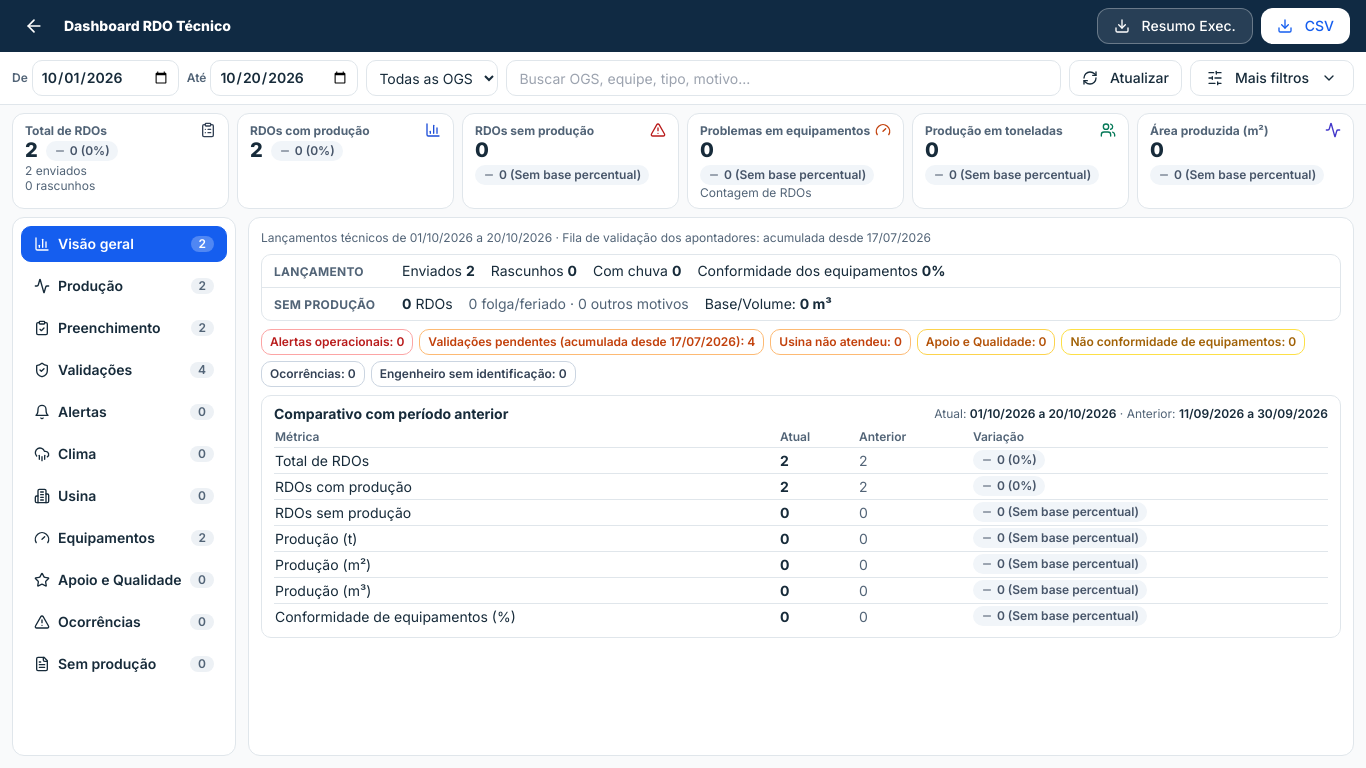
Dashboard Técnico — CSV geral e busca por INFRA › busca infra_descricao nos períodos atual e anterior, sem acoplar à validação
The width and height of the screenshot is (1366, 768).
Type "bueiro" into the field named "Busca rápida". click: point(784, 78)
box: x1=506 y1=60 x2=1061 y2=96
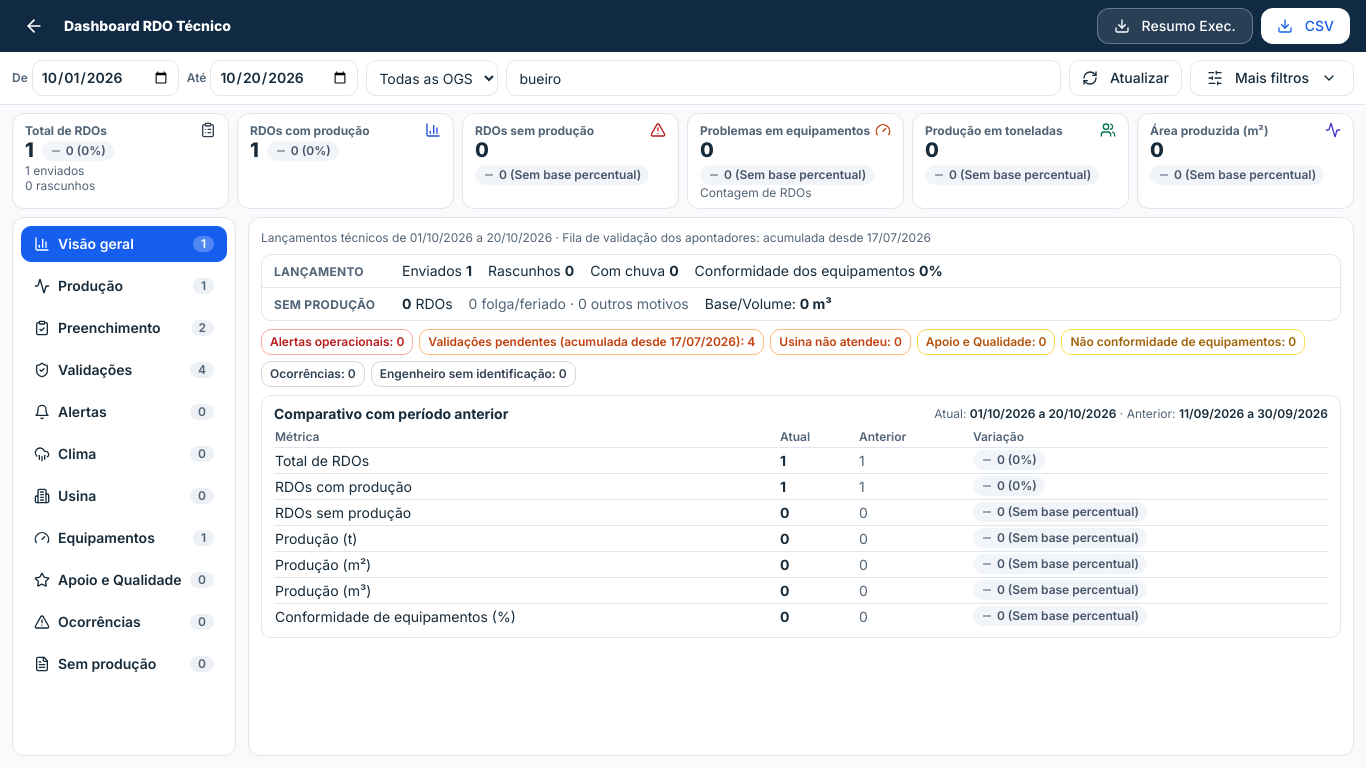
Click the button "Validações 4". click: point(124, 370)
box: x1=21 y1=352 x2=227 y2=388
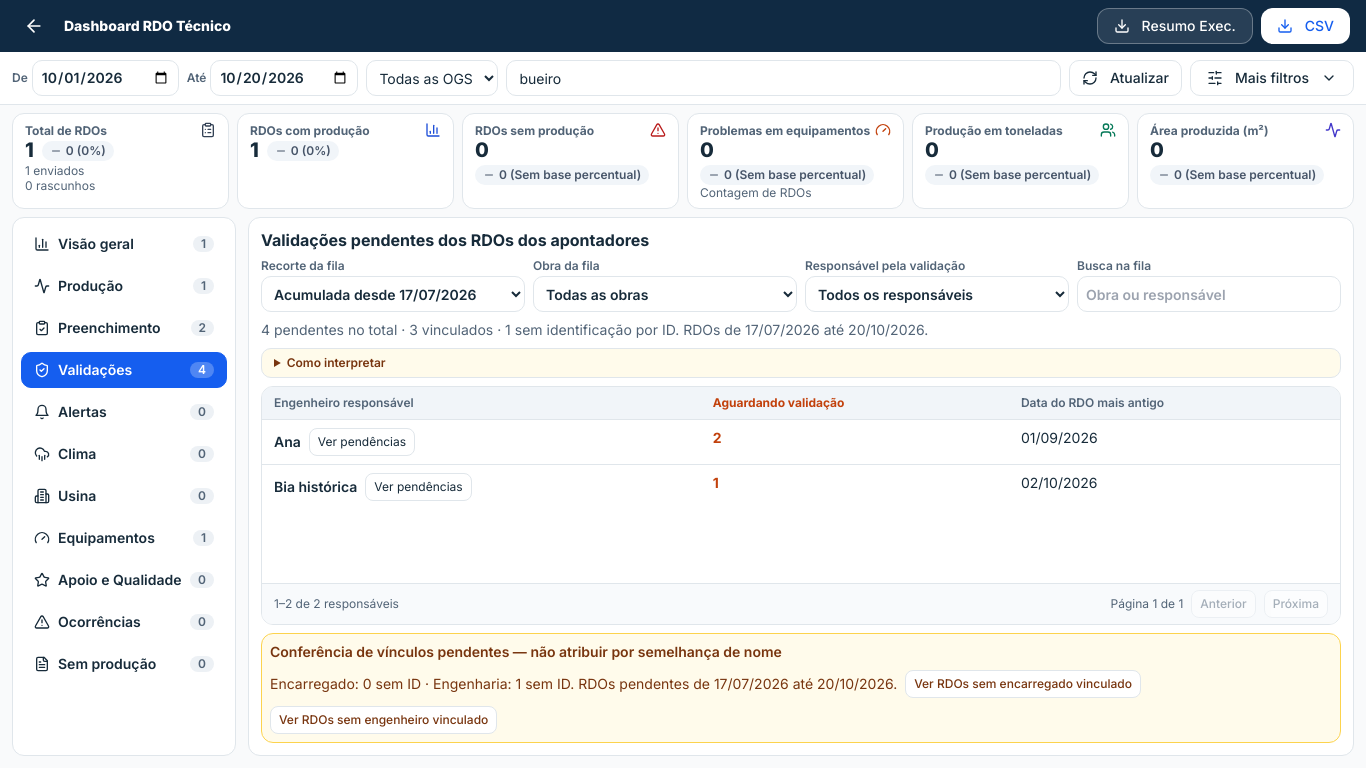
expect the text with test id "total-fila-validacao" shows "4 pendentes no total": met, box x1=261 y1=321 x2=928 y2=338
